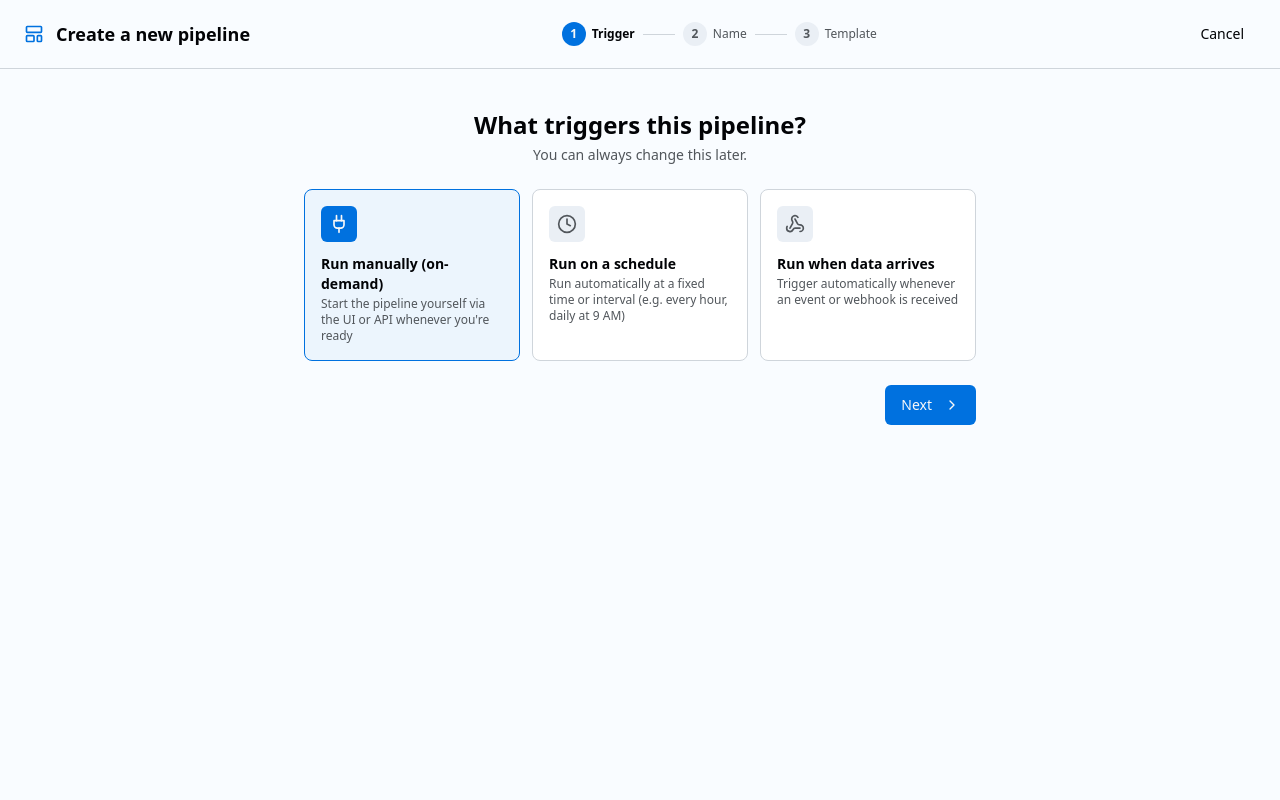
TemplateGallery — Step 2: Name › clears the error once the user types a name
The width and height of the screenshot is (1280, 800).
Click the button "Next". click: click(931, 405)
box: 885,385 -> 976,425
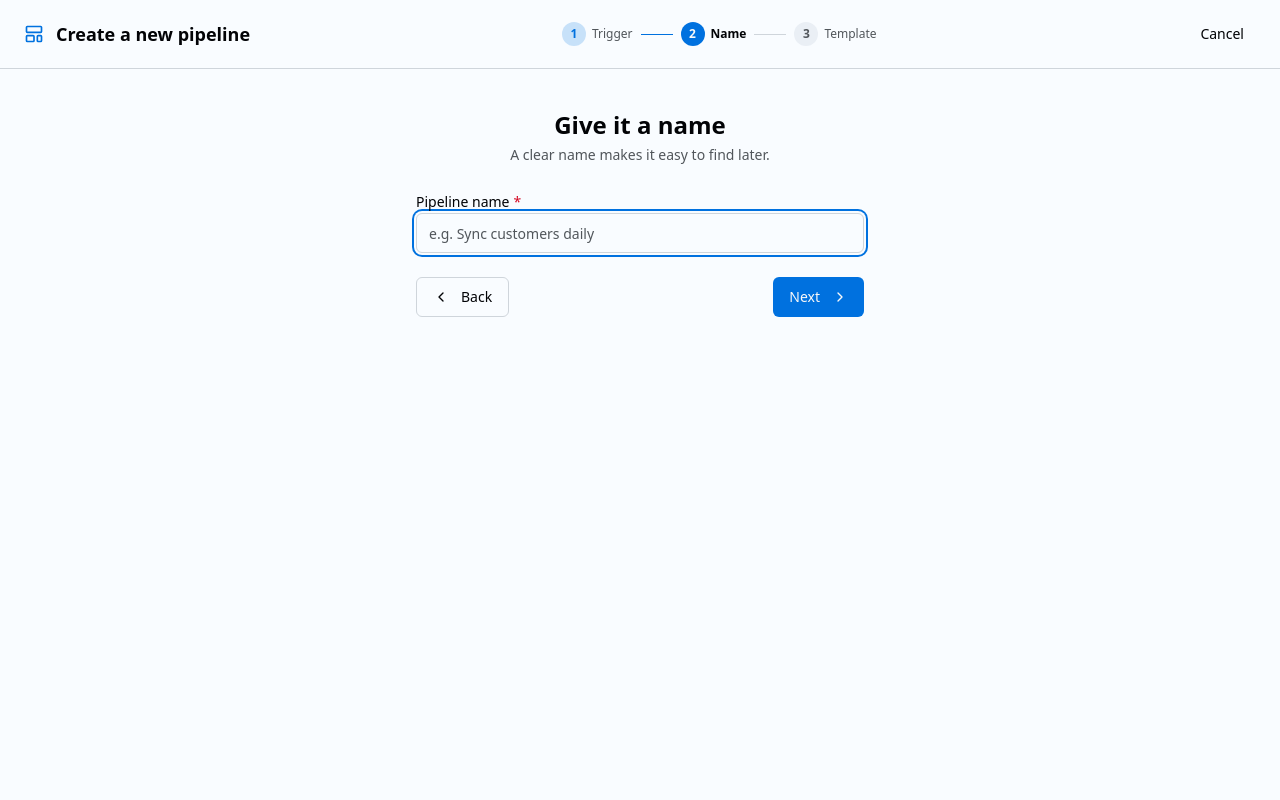
Click the button "Next". click: click(819, 297)
box: 773,277 -> 864,317
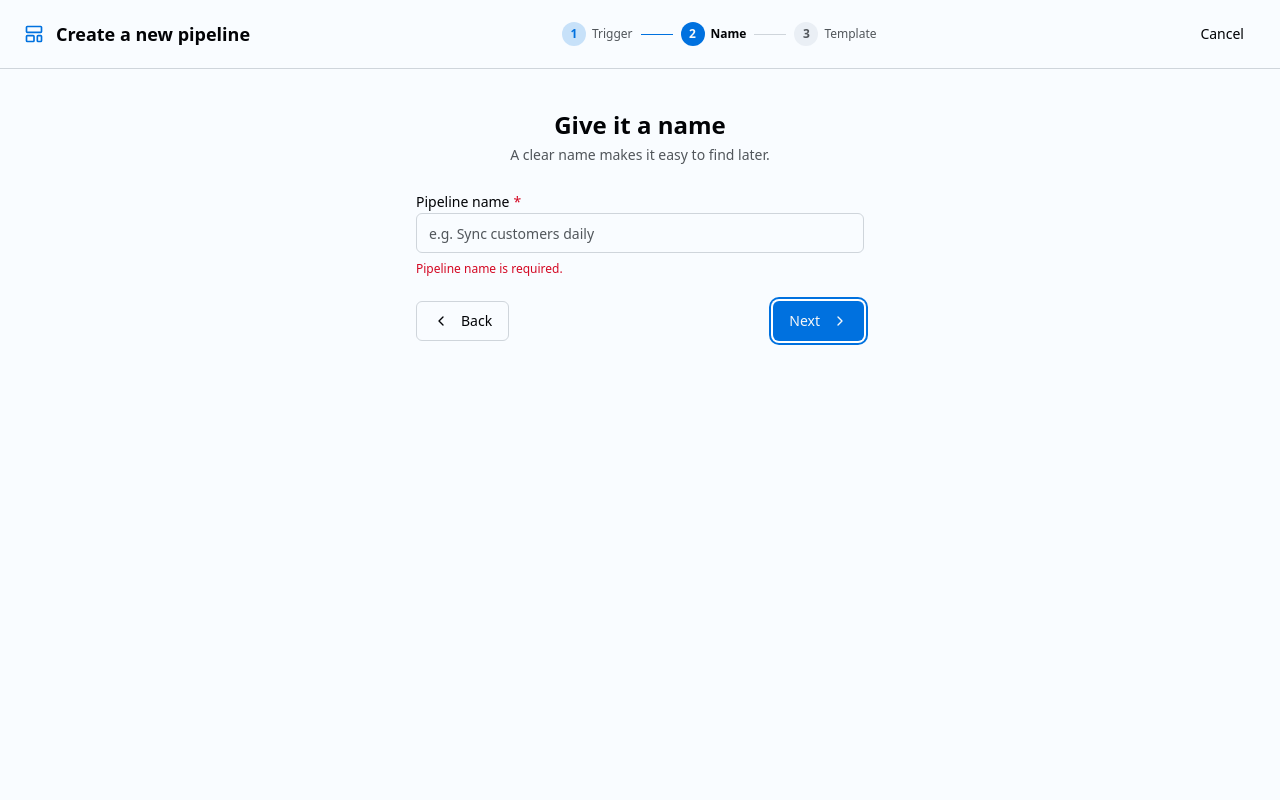
expect the message "Pipeline name is required." is shown: met, box 416,260 -> 563,277
Type "My Pipeline" into the field labelled "Pipeline name*". click: (640, 233)
box: 416,213 -> 864,253
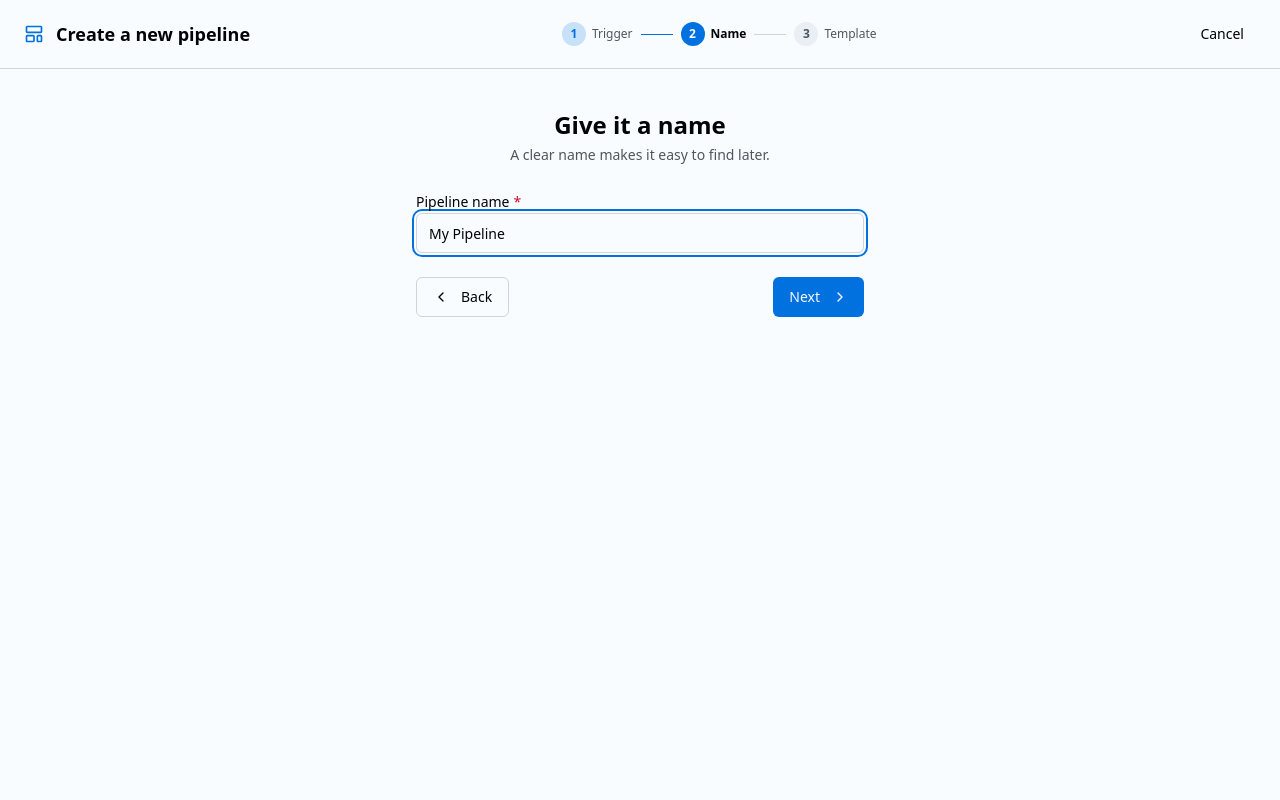
expect the message "Pipeline name is required." is gone: met
